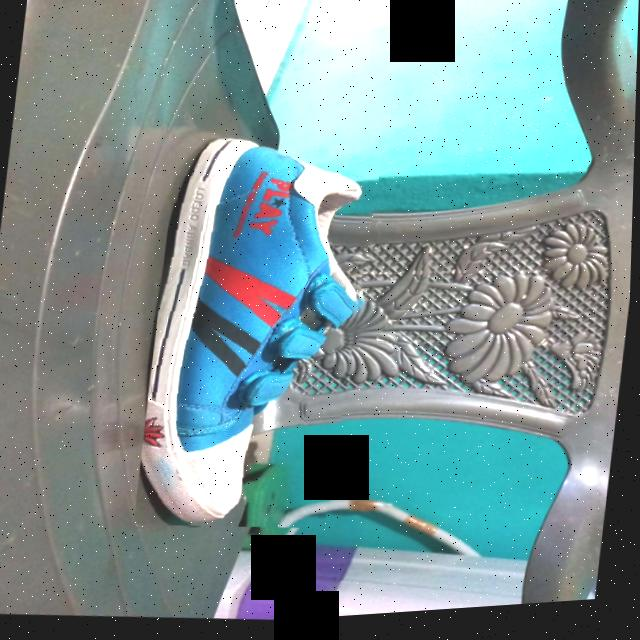shoe: (136, 126, 386, 544)
